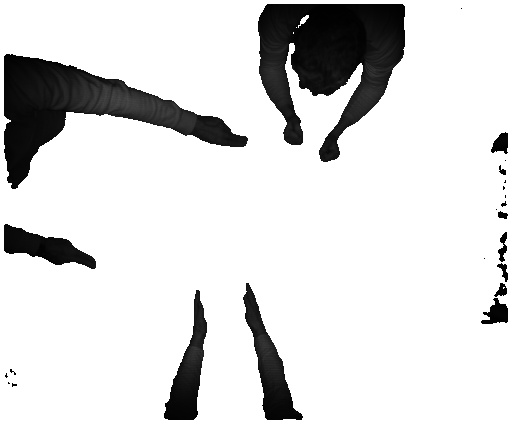fist: (312, 139, 343, 167), (280, 122, 303, 151)
hand: (47, 232, 95, 271), (199, 113, 247, 151)
spine: (242, 280, 271, 334), (184, 288, 207, 339)
